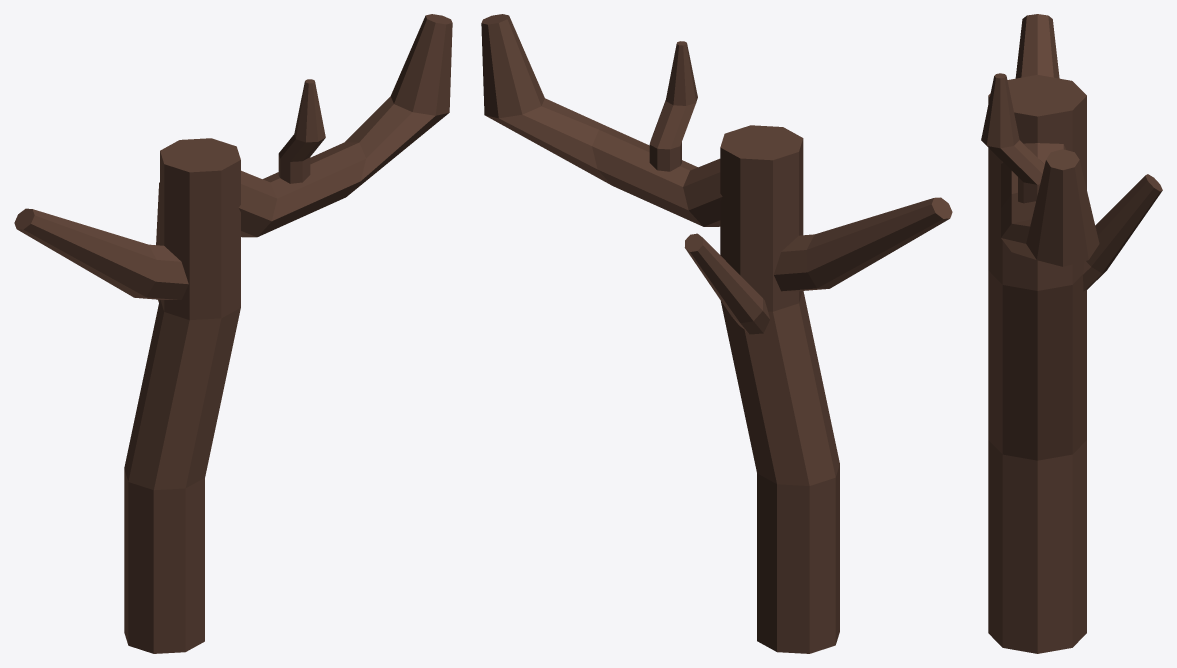
Rendered from tree 2.fbx.
3 views of the same model, side by side, from view 1: azimuth 30°, elevation 25°; view 2: azimuth 150°, elevation 25°; view 3: azimuth 270°, elevation 25° (orthographic). The views are drawn at different scales.
Visible parts, largest first — view 1: Tree 3; view 2: Tree 3; view 3: Tree 3.
Boxes of the visible parts, <box> form: Tree 3: <box>14,14,452,653</box>; Tree 3: <box>481,14,952,653</box>; Tree 3: <box>981,14,1162,653</box>.
Bounding box in the file's own units: 1228 × 1432 × 368.
